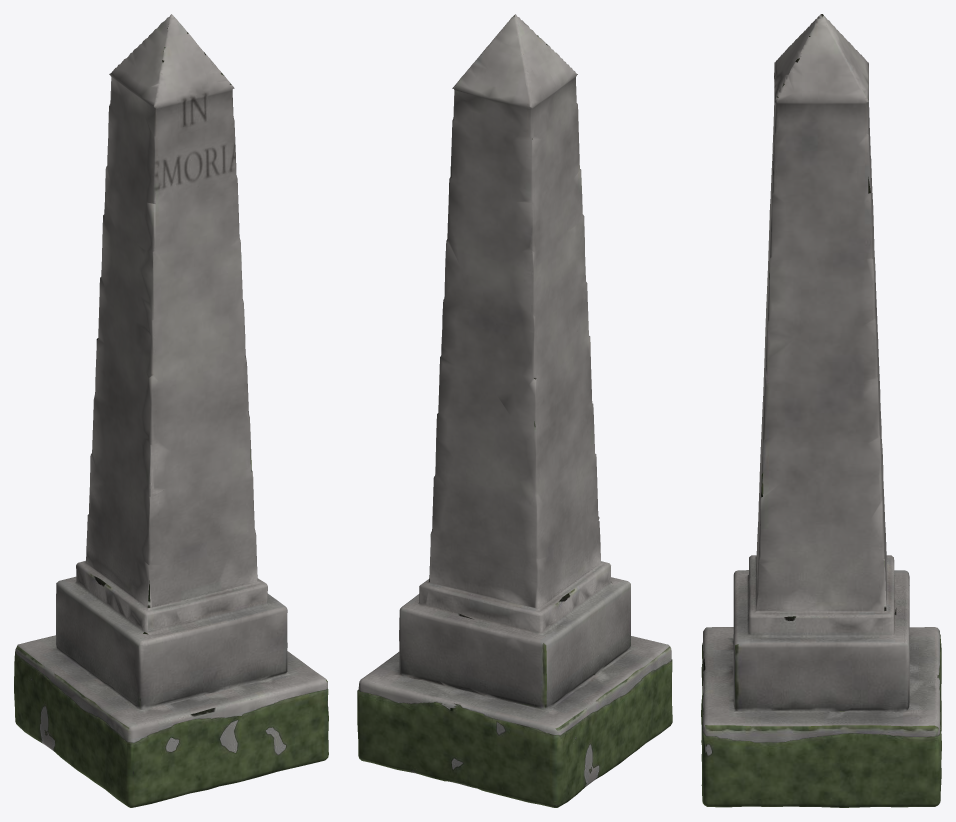
Rendered from obelisk.glb.
3 renders of one model, left to right at view 1: azimuth 30°, elevation 25°; view 2: azimuth 150°, elevation 25°; view 3: azimuth 270°, elevation 25°, orthographic. The views are drawn at different scales.
Parts seen in each view (by area): view 1: Obelisk, Obelisk_Moss; view 2: Obelisk, Obelisk_Moss; view 3: Obelisk, Obelisk_Moss.
Part boxes in pixels (x1,y1,x2,y2): Obelisk: [15, 14, 327, 774]; Obelisk_Moss: [14, 651, 328, 807]; Obelisk: [358, 14, 671, 806]; Obelisk_Moss: [357, 659, 672, 807]; Obelisk: [703, 14, 940, 784]; Obelisk_Moss: [701, 634, 941, 807].
Size of the model in its own units: 0.6295 by 2.15 by 0.6302.
1 material, 1 textured.
